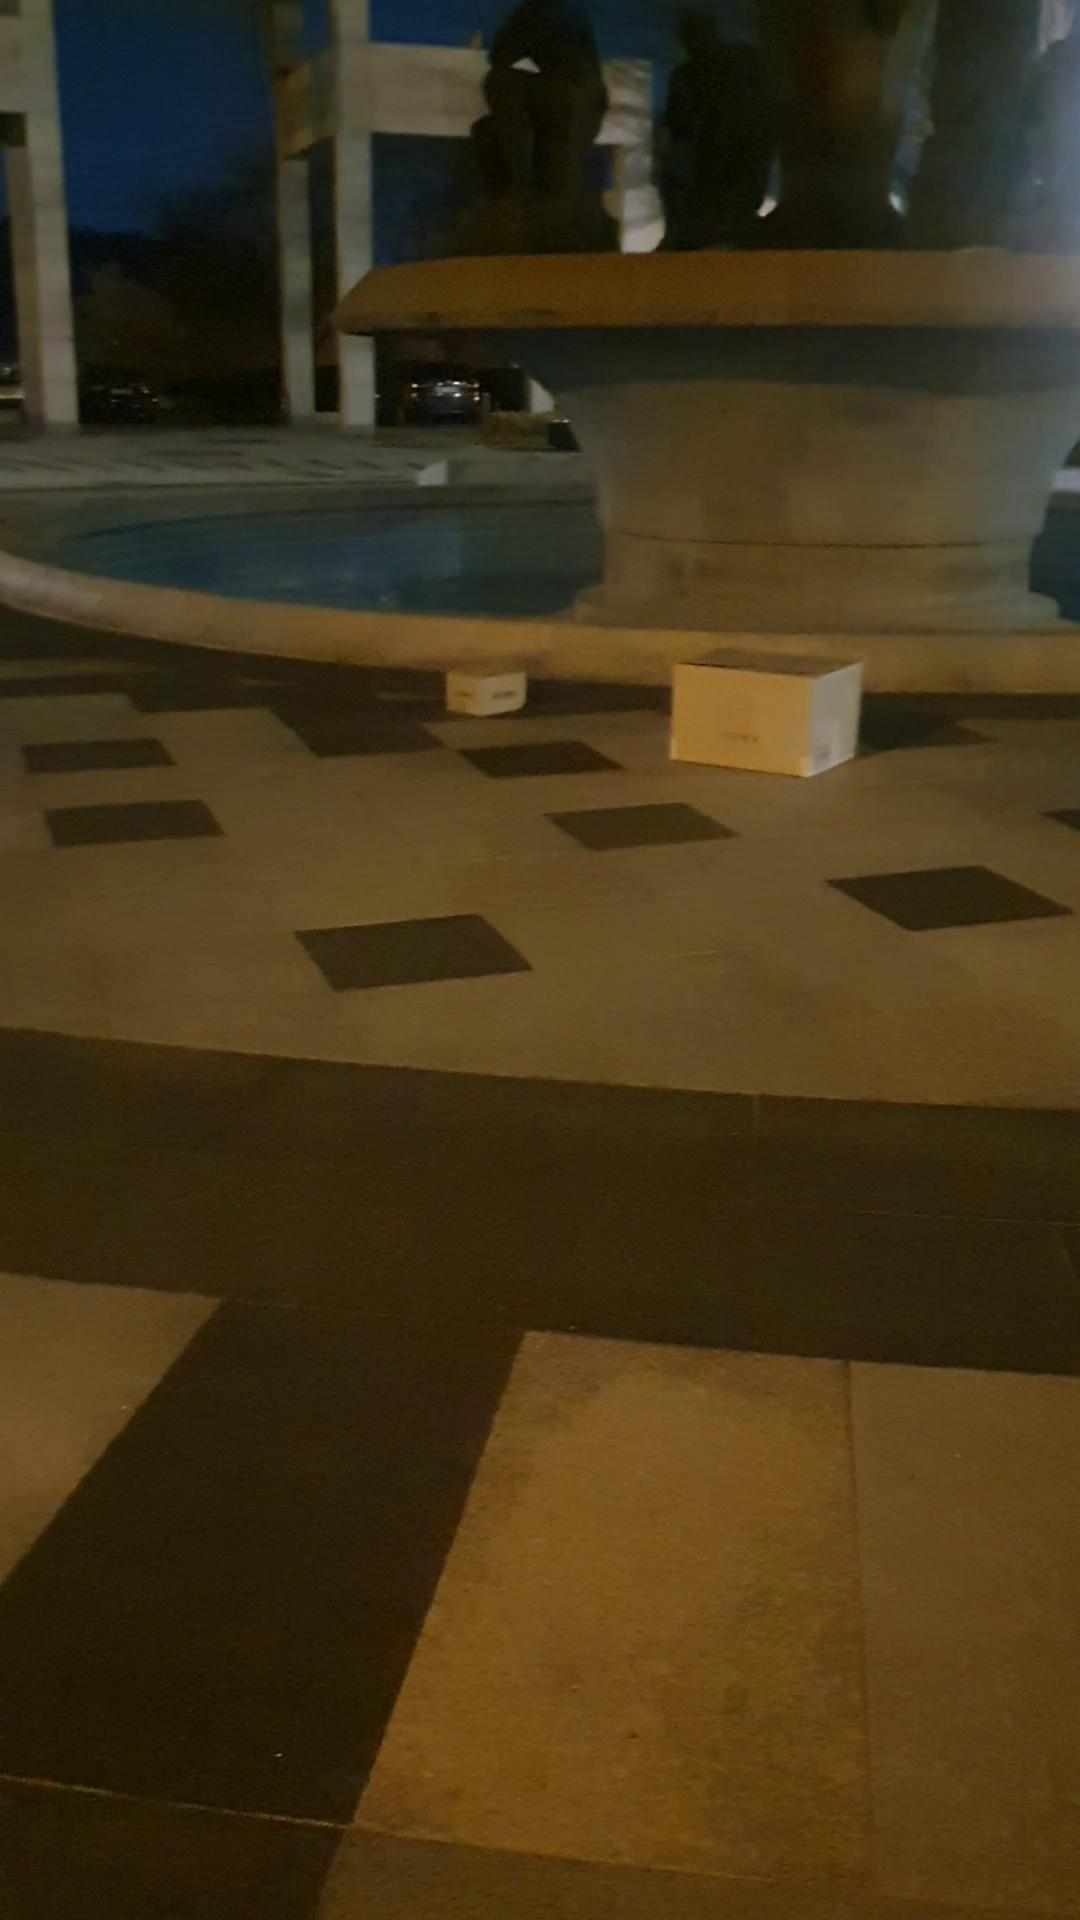Box: (663, 636, 874, 787), (433, 640, 542, 720)
